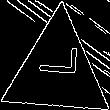L_W: (33, 53, 81, 88)
